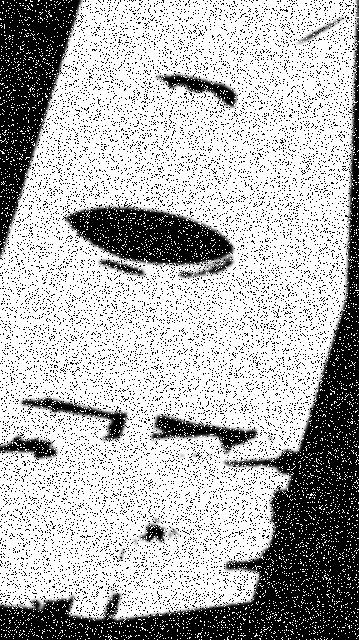pot: (46, 75, 253, 282)
